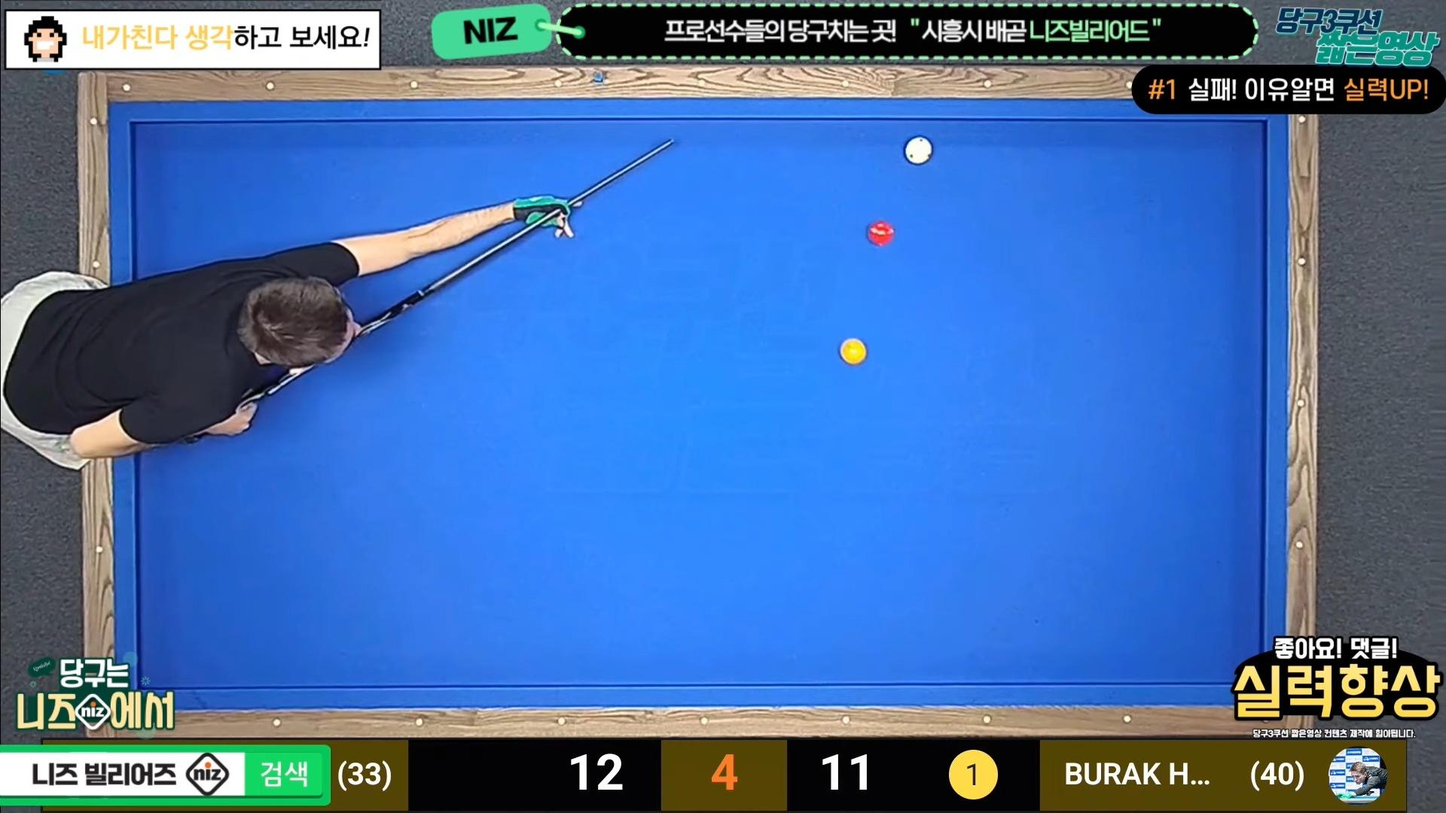Red: (866, 221, 899, 247)
White: (905, 136, 939, 165)
Yellow: (839, 339, 873, 367)
